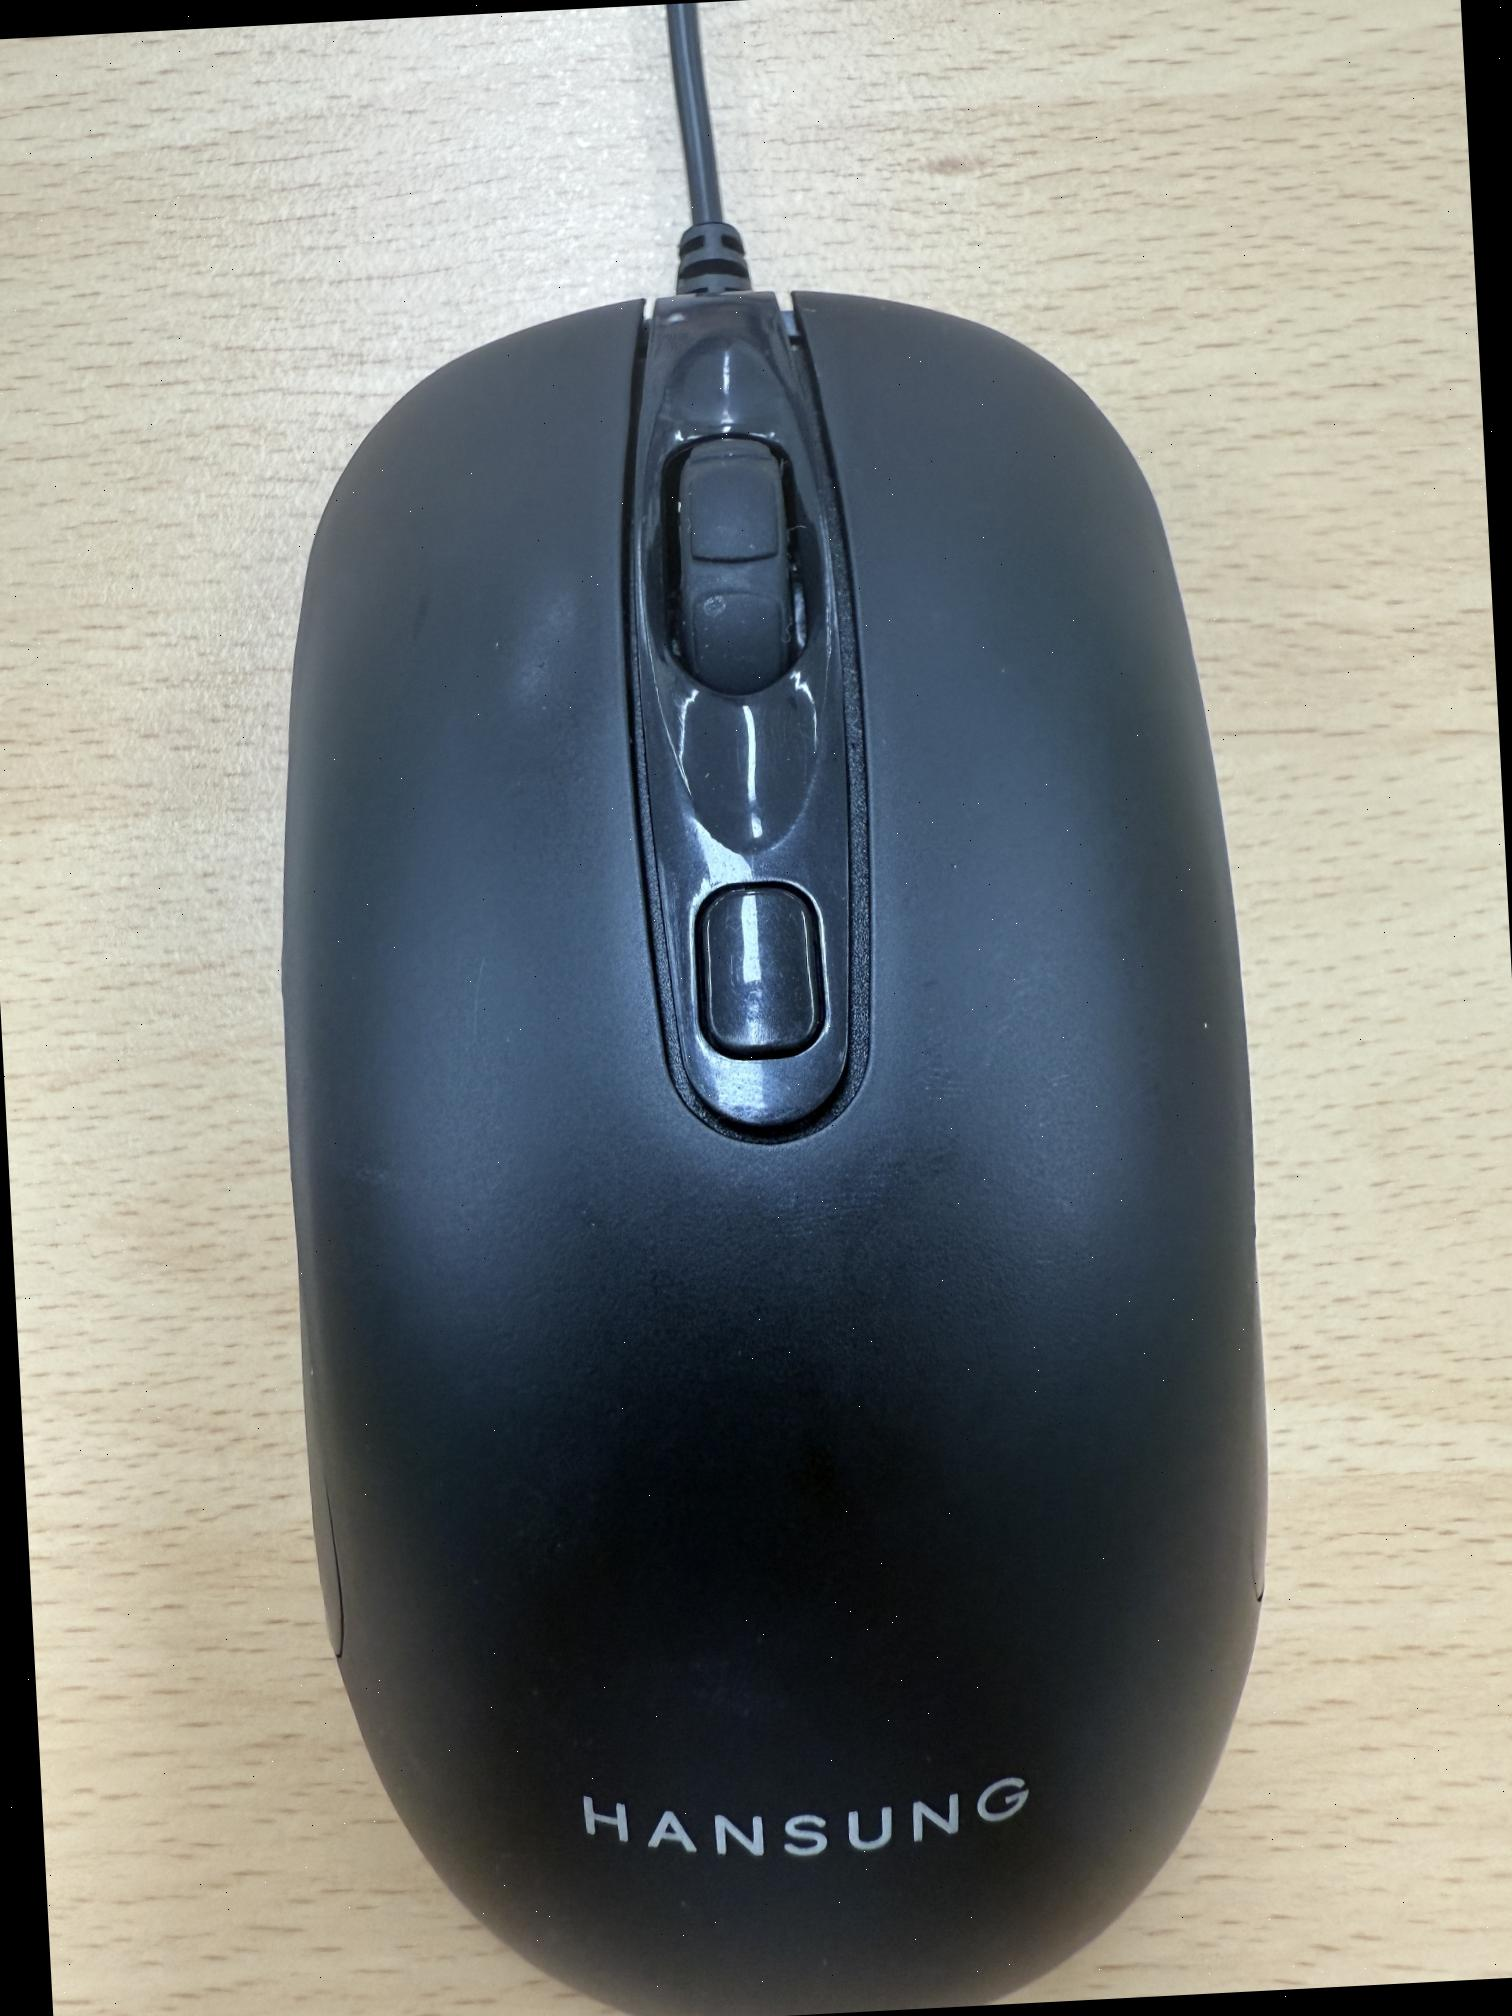front: (246, 260, 1302, 2016)
